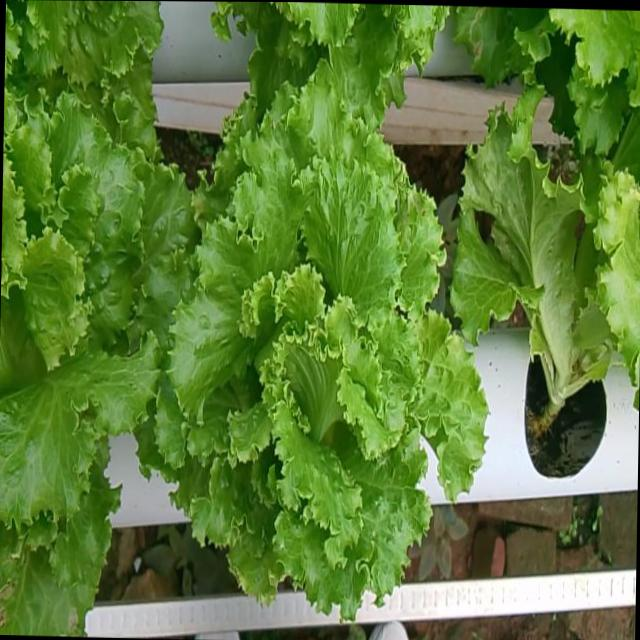Mature: (164, 83, 499, 623), (0, 97, 201, 539)
